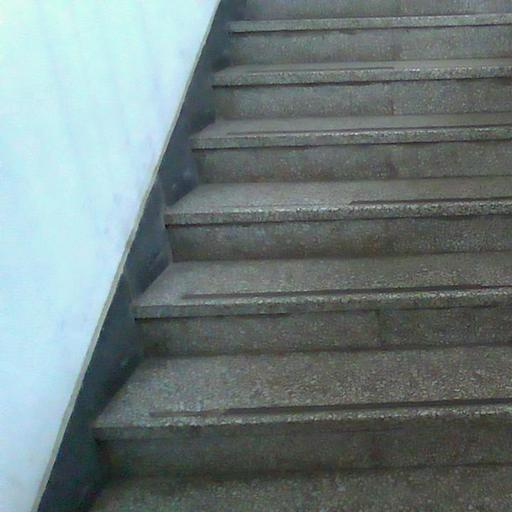stairs: (94, 0, 511, 511)
